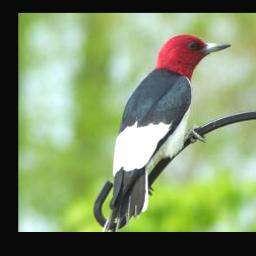Woodpecker: (100, 33, 234, 231)
